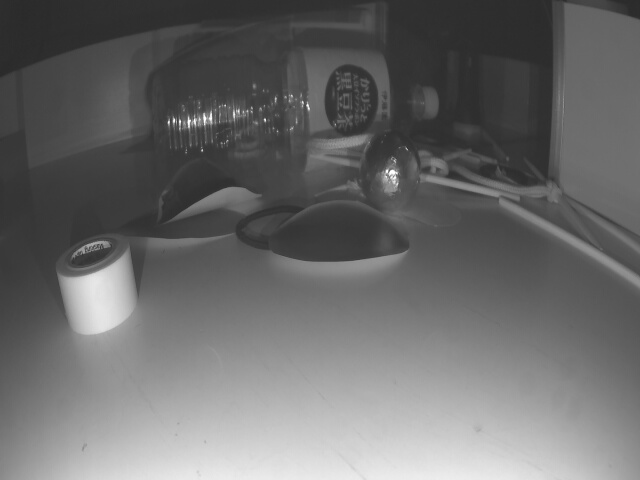Live: (360, 135, 420, 207)
Point: (0, 132, 24, 185)
